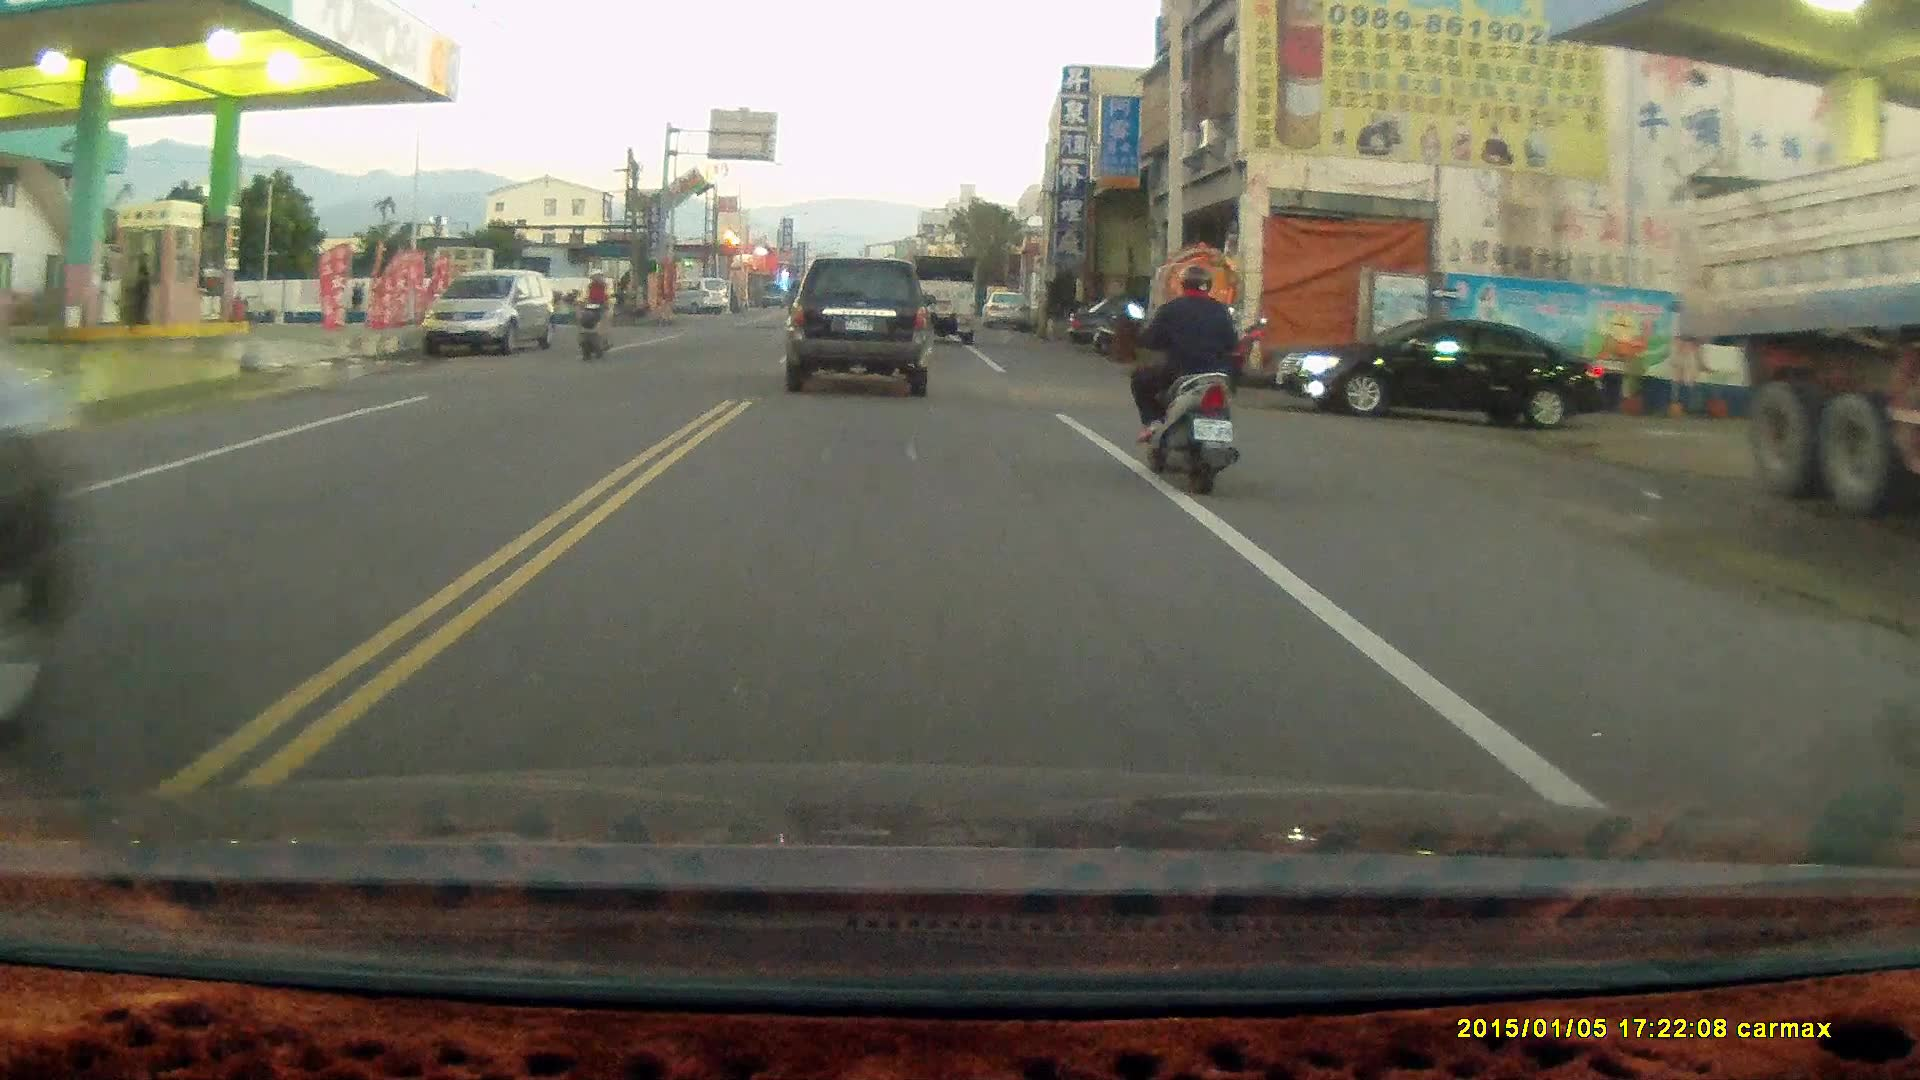rider: (1122, 266, 1236, 498), (568, 268, 610, 363)
vehicle: (1682, 127, 1920, 522), (1, 273, 109, 749), (1269, 322, 1618, 430), (790, 259, 937, 399), (423, 271, 554, 365), (894, 253, 979, 346)
